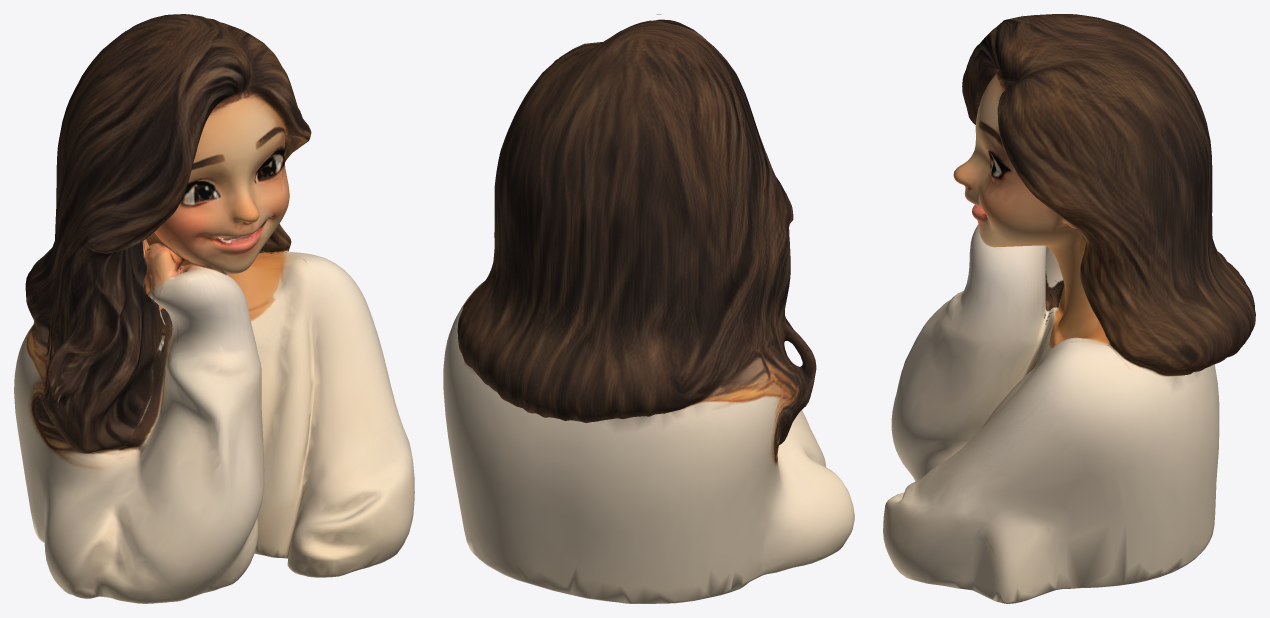
Rendered from ref-rodin-web-nodraco.glb.
The picture shows the model from 3 angles, left to right: view 1: azimuth 30°, elevation 25°; view 2: azimuth 150°, elevation 25°; view 3: azimuth 270°, elevation 25°; orthographic projection.
Parts seen in each view (by area): view 1: model; view 2: model; view 3: model.
Boxes of the visible parts, x1,y1,x2,y2 form: model: (14, 14, 414, 603); model: (443, 14, 854, 603); model: (883, 14, 1255, 603).
Size of the model in its own units: 1.37 by 1.9 by 1.28.
1 material, 1 textured.
